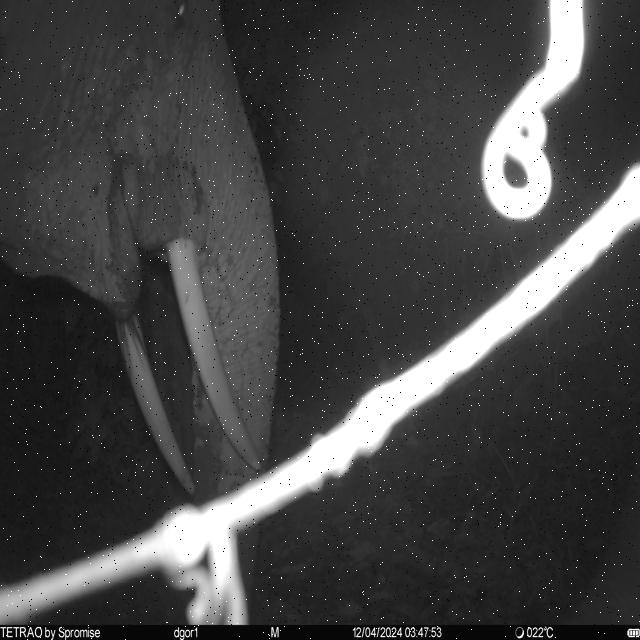elephant: (0, 2, 284, 626)
tusk: (164, 239, 266, 475), (116, 309, 196, 497)
